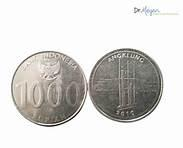coin_1000_e2010: (88, 46, 167, 129), (11, 49, 88, 127)
